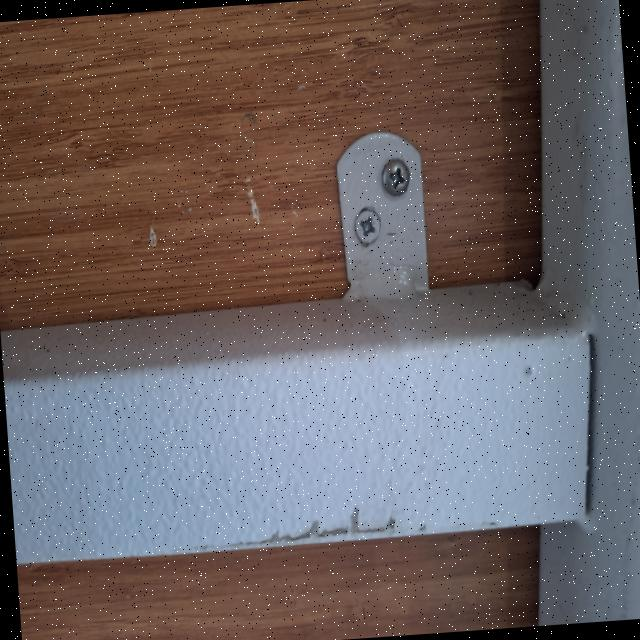Phillips: (382, 160, 413, 199)
Pozidriv: (352, 206, 382, 246)
